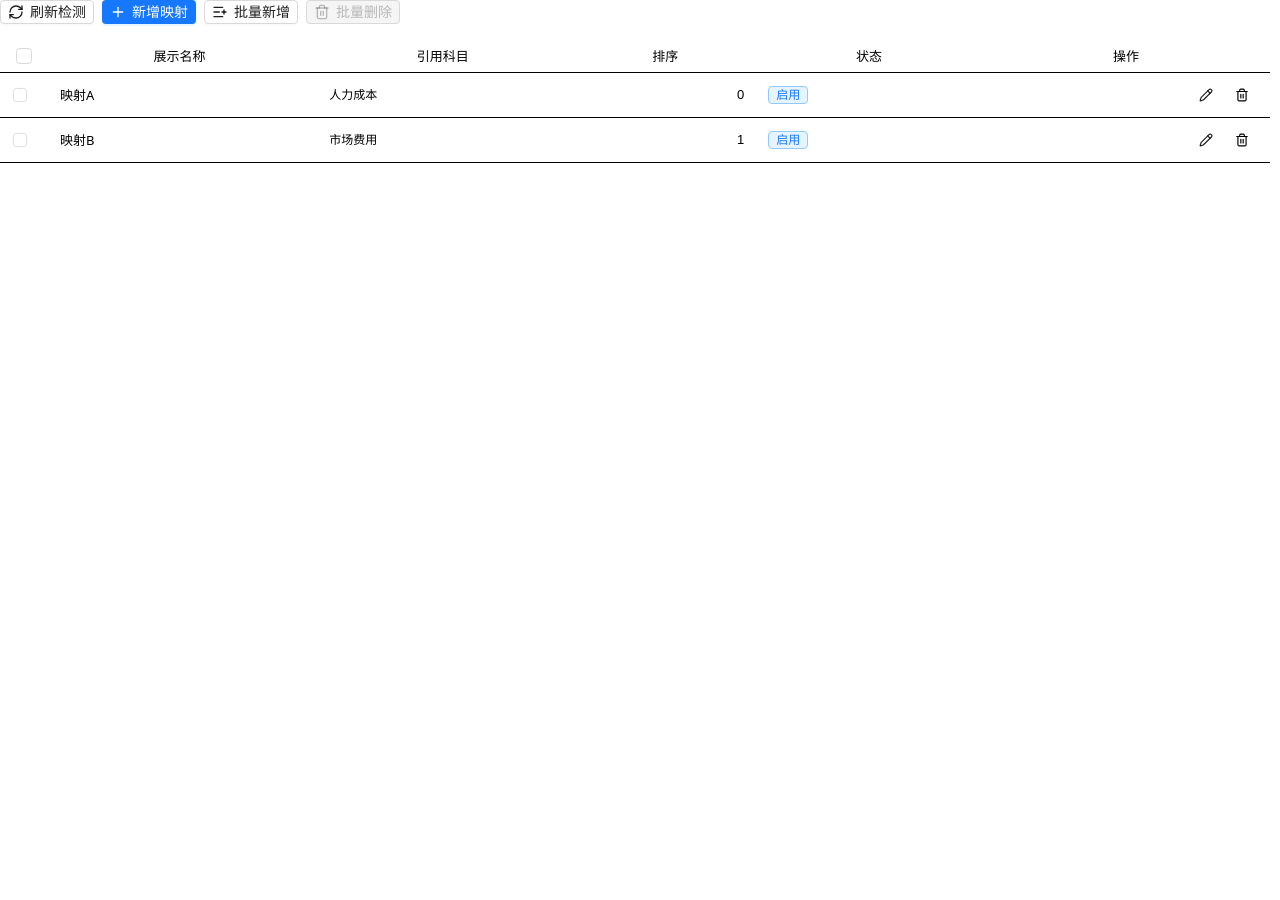
ExpenseMappingPanel 引用科目排除已引用 › 编辑映射时自身已选科目保留，其他启用映射的科目被排除
Click the button titled "编辑映射".
click(1206, 94)  # box [1190,80,1222,108]
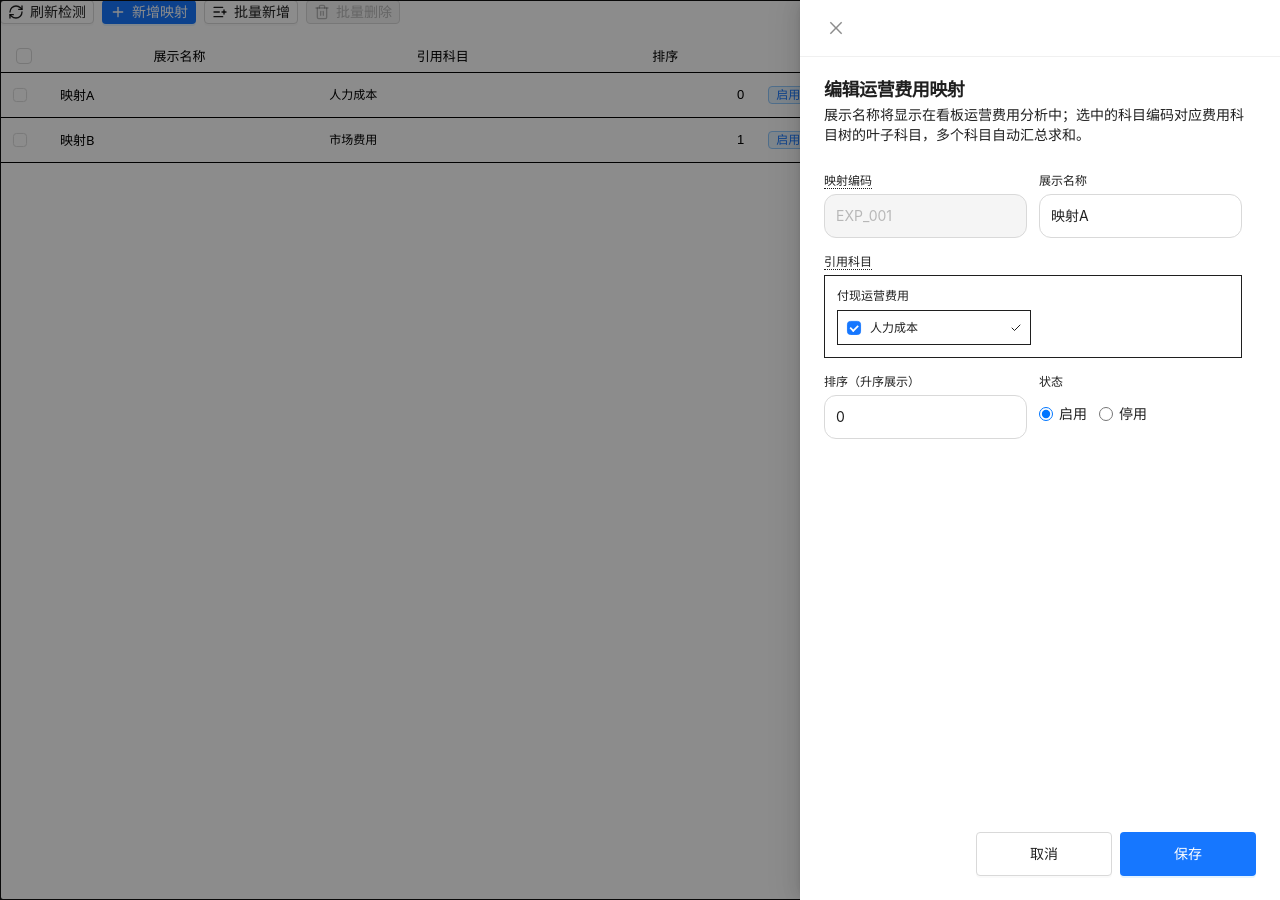
Check: the 4th checkbox labelled "人力成本" is checked, box [837,310,1031,345]
